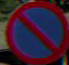No waiting: (5, 2, 65, 58)
